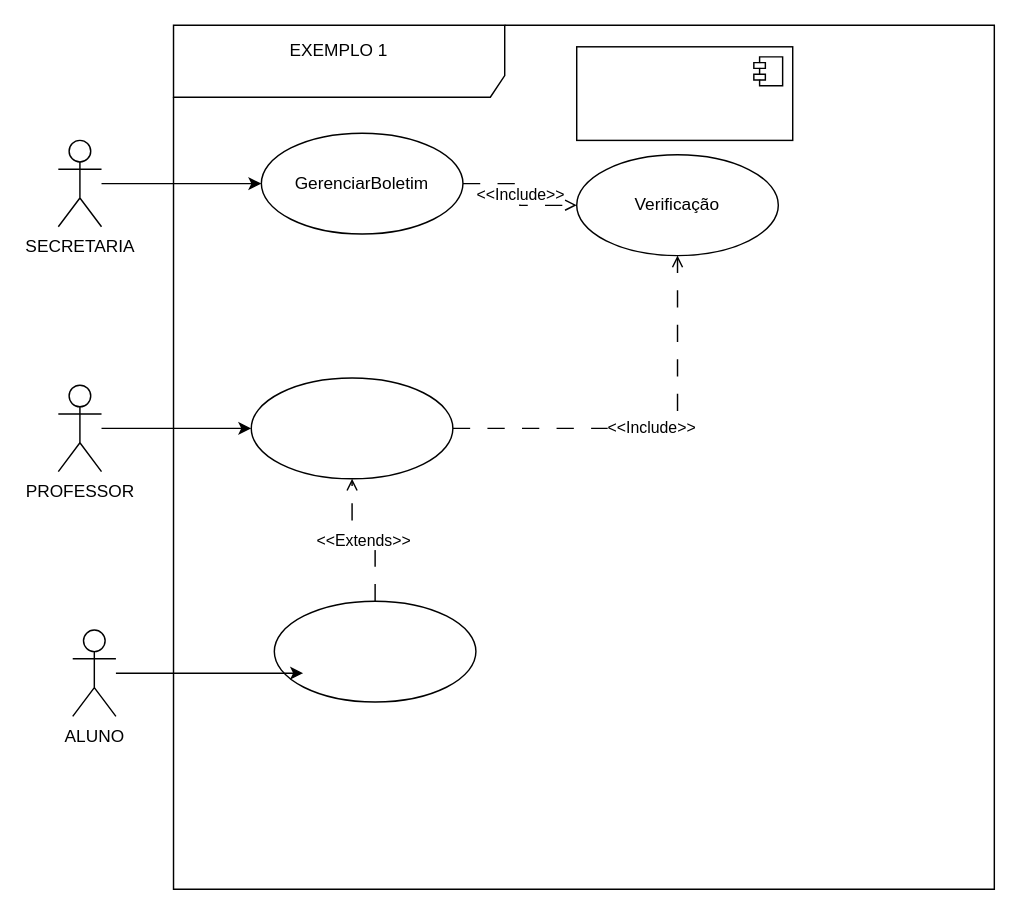
Some shapes in this 1020 by 914 pixel diagram are drawn without their labels. Each missing label, with the box of its shape:
Deve haver uma verificação de acesso: (575, 45, 793, 140)
GerenciarNotas: (250, 377, 453, 479)
VerNotas: (273, 600, 476, 702)
